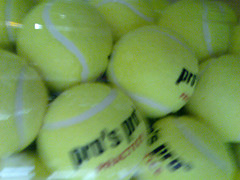tennis ball: (35, 80, 149, 180), (106, 24, 201, 121), (16, 1, 114, 91), (136, 116, 237, 180), (1, 46, 47, 159), (187, 52, 240, 143), (158, 1, 231, 59), (86, 1, 162, 38), (1, 1, 39, 49), (1, 153, 50, 179), (230, 21, 240, 52)
